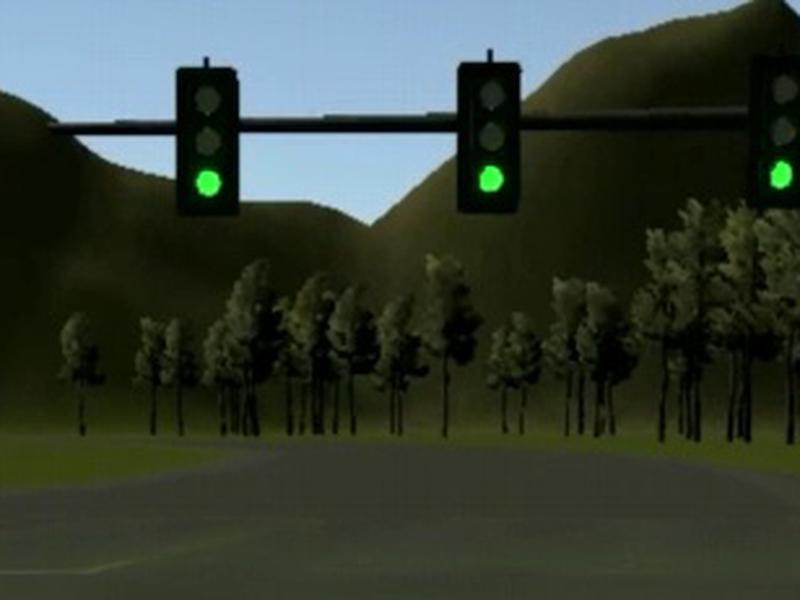Green: (457, 61, 523, 215), (176, 67, 240, 216), (748, 54, 800, 206)
